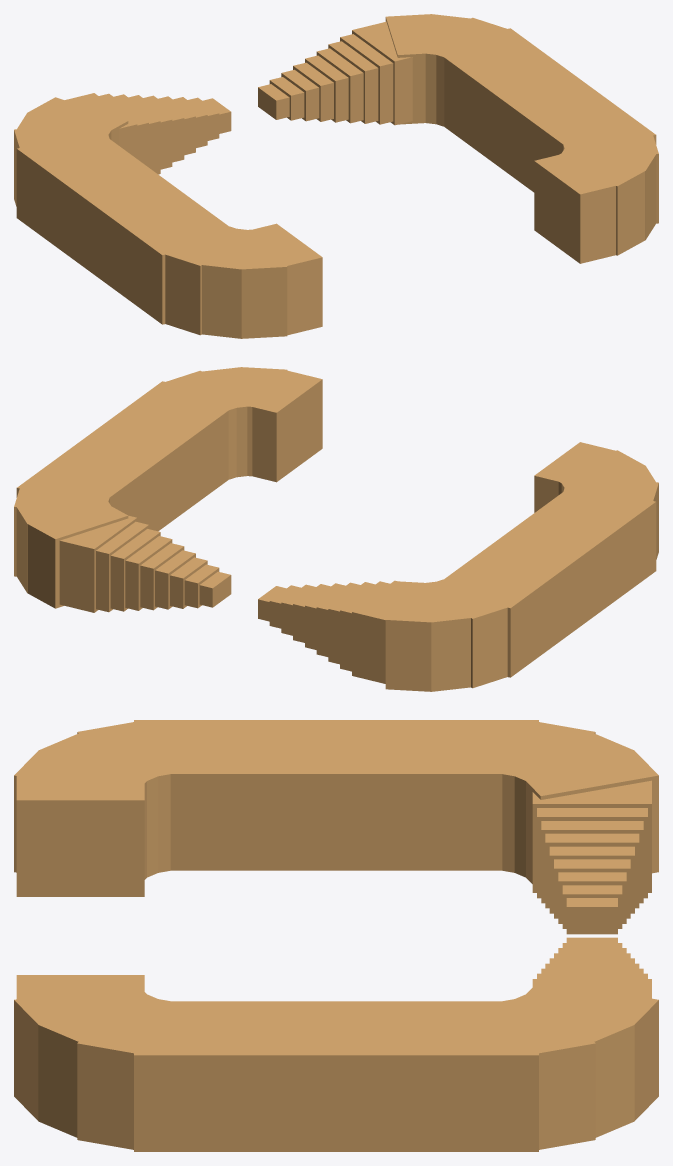
Rendered from halloween_horns_6.glb.
3 renders of one model, top to bottom at view 1: azimuth 30°, elevation 25°; view 2: azimuth 150°, elevation 25°; view 3: azimuth 270°, elevation 25°, orthographic. The views are drawn at different scales.
Visible parts, largest first — view 1: cube.004, cube.021, cube.017, cube.001, cube, cube.003, cube.002, cube.018, cube.024, cube.023, cube.025, cube.019 (+21 smaller); view 2: cube.004, cube.021, cube.017, cube.007, cube.006, cube.024, cube.005, cube.025, cube.008, cube.023, cube.019, cube (+21 smaller); view 3: cube.021, cube.004, cube, cube.022, cube.020, cube.019, cube.023, cube.005, cube.024, cube.007, cube.018, cube.003 (+15 smaller).
Part boxes in pixels (x1=…): cube.004: x1=16, y1=139, x2=227, y2=324; cube.021: x1=431, y1=28, x2=656, y2=192; cube.017: x1=534, y1=152, x2=619, y2=263; cube.001: x1=230, y1=228, x2=287, y2=338; cube: x1=237, y1=223, x2=322, y2=335; cube.003: x1=164, y1=223, x2=250, y2=335; cube.002: x1=198, y1=227, x2=264, y2=338; cube.018: x1=559, y1=152, x2=645, y2=255; cube.024: x1=385, y1=14, x2=442, y2=124; cube.023: x1=407, y1=14, x2=474, y2=124; cube.025: x1=352, y1=21, x2=412, y2=125; cube.019: x1=561, y1=142, x2=656, y2=239; cube.004: x1=431, y1=492, x2=656, y2=677; cube.021: x1=16, y1=381, x2=241, y2=531; cube.017: x1=237, y1=369, x2=322, y2=482; cube.007: x1=385, y1=581, x2=442, y2=691; cube.006: x1=408, y1=580, x2=474, y2=691; cube.024: x1=27, y1=500, x2=128, y2=608; cube.005: x1=418, y1=577, x2=507, y2=688; cube.025: x1=59, y1=515, x2=137, y2=612; cube.008: x1=352, y1=580, x2=397, y2=683; cube.023: x1=15, y1=495, x2=115, y2=592; cube.019: x1=197, y1=367, x2=258, y2=477; cube: x1=534, y1=442, x2=619, y2=512; cube.021: x1=134, y1=1001, x2=538, y2=1151; cube.004: x1=134, y1=720, x2=538, y2=870; cube: x1=16, y1=773, x2=144, y2=896; cube.022: x1=489, y1=994, x2=595, y2=1149; cube.020: x1=77, y1=994, x2=184, y2=1149; cube.019: x1=38, y1=987, x2=173, y2=1137; cube.023: x1=504, y1=986, x2=634, y2=1137; cube.005: x1=488, y1=722, x2=595, y2=872; cube.024: x1=526, y1=979, x2=658, y2=1120; cube.007: x1=523, y1=750, x2=658, y2=883; cube.018: x1=14, y1=989, x2=155, y2=1120; cube.003: x1=77, y1=721, x2=184, y2=872.
Bounding box in the file's own units: 1.16 × 0.1563 × 0.9451.
Materials: 1 (1 with a texture image).
